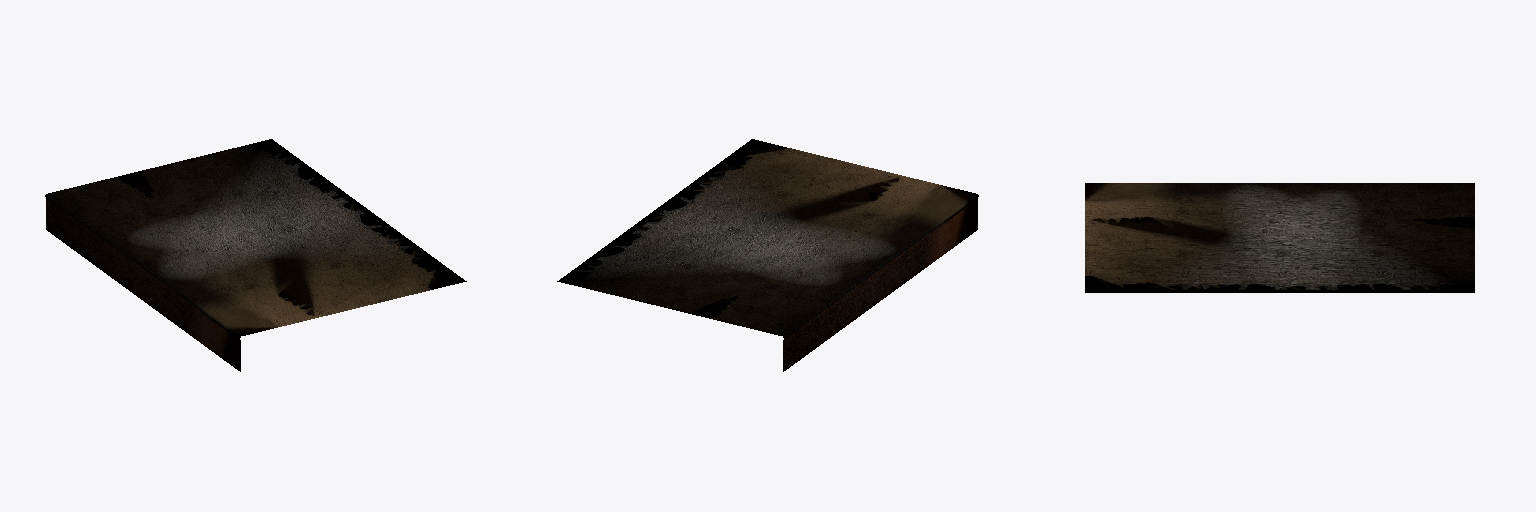
The picture shows the model from 3 angles: view 1: azimuth 30°, elevation 25°; view 2: azimuth 150°, elevation 25°; view 3: azimuth 270°, elevation 25°; orthographic projection.
Parts seen in each view (by area): view 1: stage BakedQuadGeos1; view 2: stage BakedQuadGeos1; view 3: stage BakedQuadGeos1.
Boxes of the visible parts, x1=… form: stage BakedQuadGeos1: x1=45, y1=139, x2=466, y2=371; stage BakedQuadGeos1: x1=557, y1=139, x2=978, y2=371; stage BakedQuadGeos1: x1=1085, y1=183, x2=1474, y2=292.
Size of the model in its own units: 5.11 by 0.7821 by 7.61.
Materials: 1 (1 with a texture image).